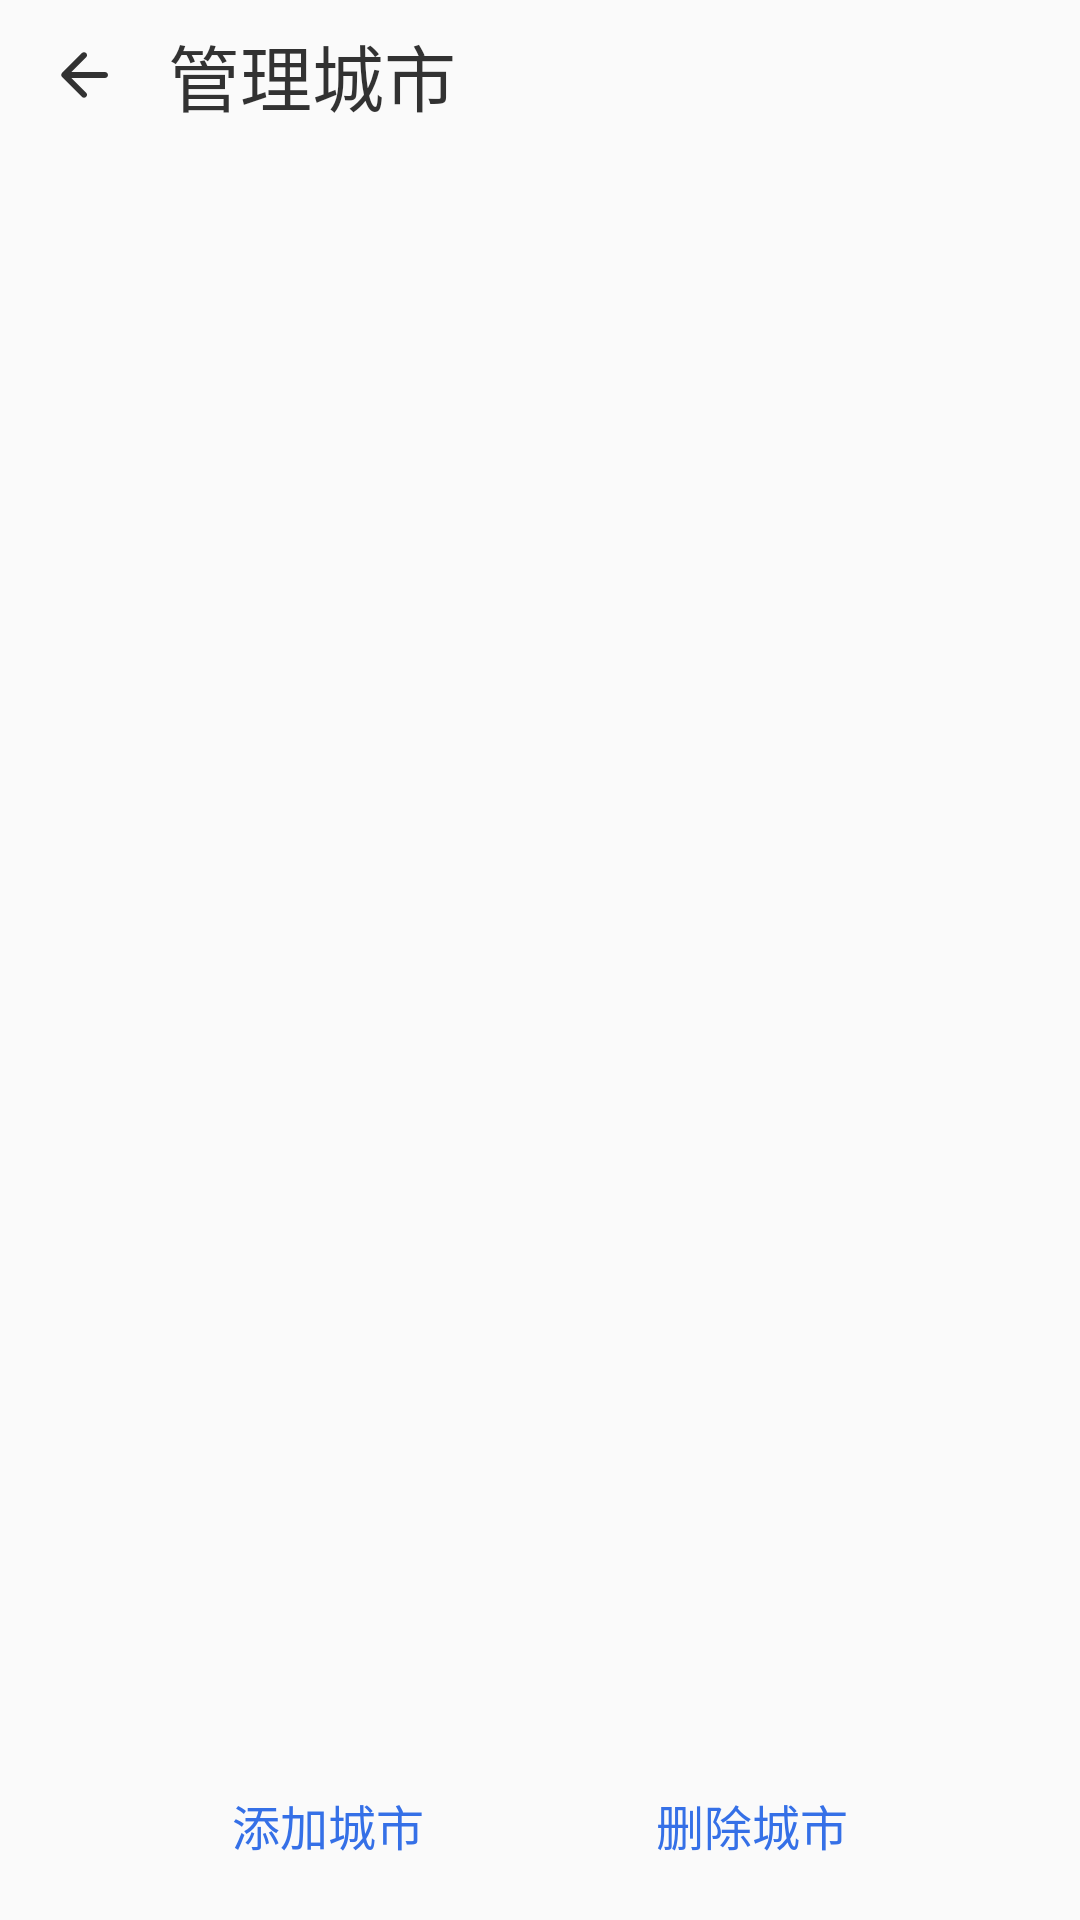

Icon bounding boxes for this 1080×1920 phone screenshot, format (x1, y1, x2, y2):
back: (61, 52, 108, 98)
